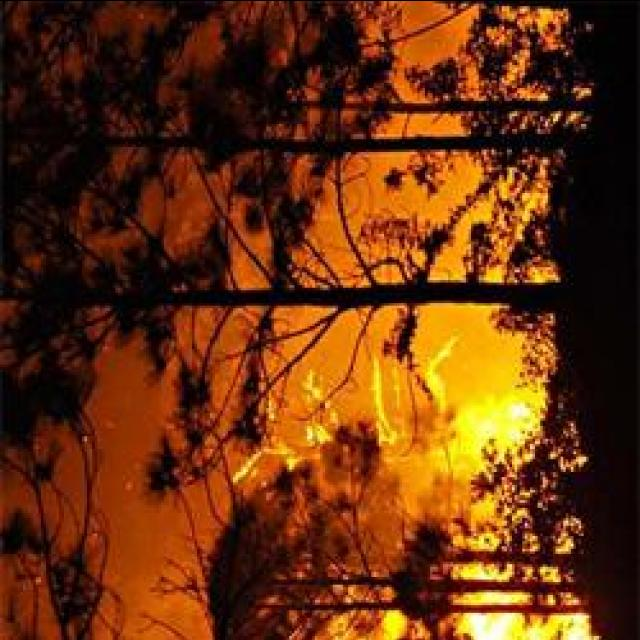fire: (474, 608, 528, 640), (471, 411, 496, 436), (508, 402, 532, 421)
